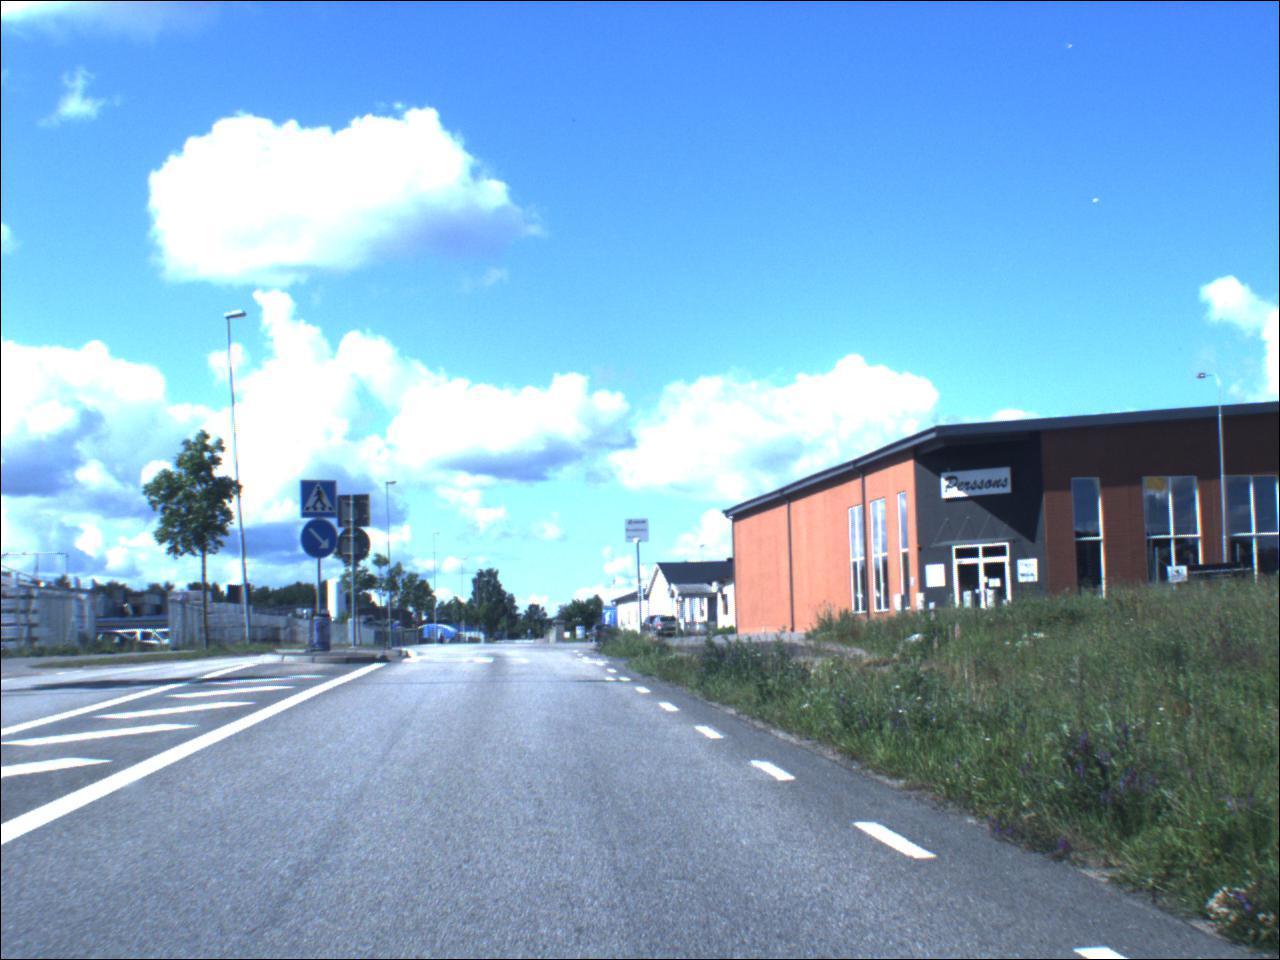PASS_RIGHT_SIDE: (302, 521, 344, 562)
PEDESTRIAN_CROSSING: (303, 482, 340, 520)
